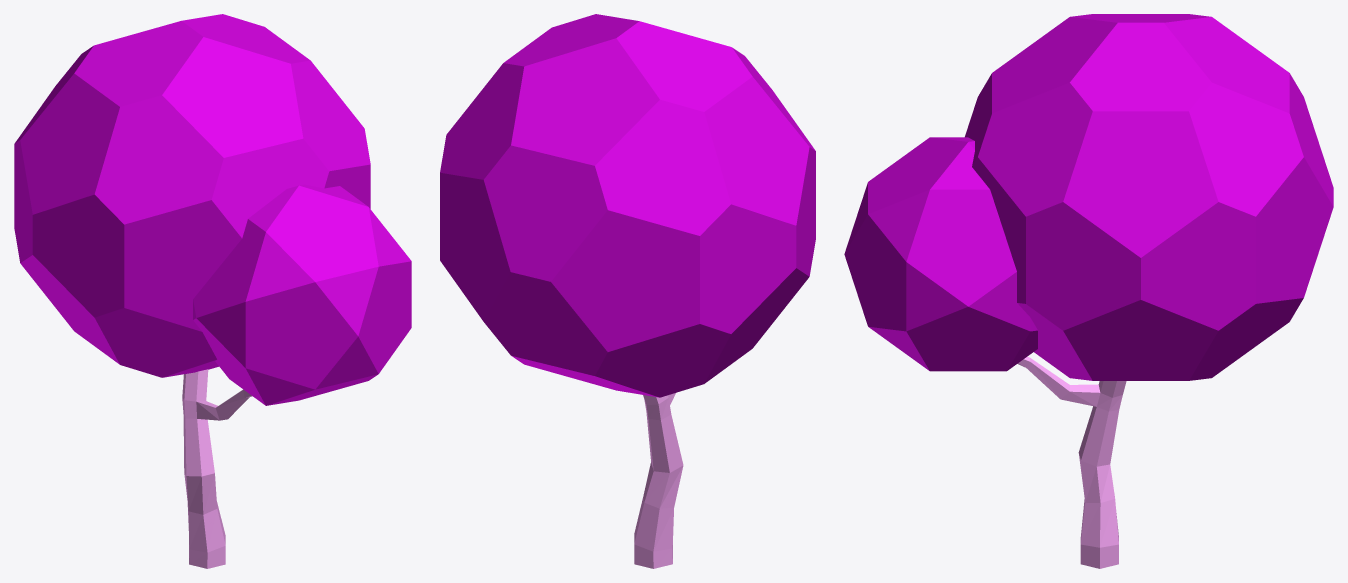
The model's file is tree.FBX.
The picture shows the model from 3 angles, left to right: view 1: azimuth 30°, elevation 25°; view 2: azimuth 150°, elevation 25°; view 3: azimuth 270°, elevation 25°; orthographic projection. The views are drawn at different scales.
Parts seen in each view (by area): view 1: Hedra001, Hedra002, Cylinder001; view 2: Hedra001, Cylinder001; view 3: Hedra001, Hedra002, Cylinder001.
Boxes of the visible parts, bbox=[...] form: Hedra001: bbox=[14, 14, 370, 377]; Hedra002: bbox=[193, 184, 411, 405]; Cylinder001: bbox=[182, 369, 252, 568]; Hedra001: bbox=[440, 14, 815, 397]; Cylinder001: bbox=[634, 393, 683, 568]; Hedra001: bbox=[965, 14, 1333, 380]; Hedra002: bbox=[844, 137, 1037, 371]; Cylinder001: bbox=[1017, 356, 1126, 568].
Bounding box in the file's own units: 46.21 × 71.31 × 58.64.
